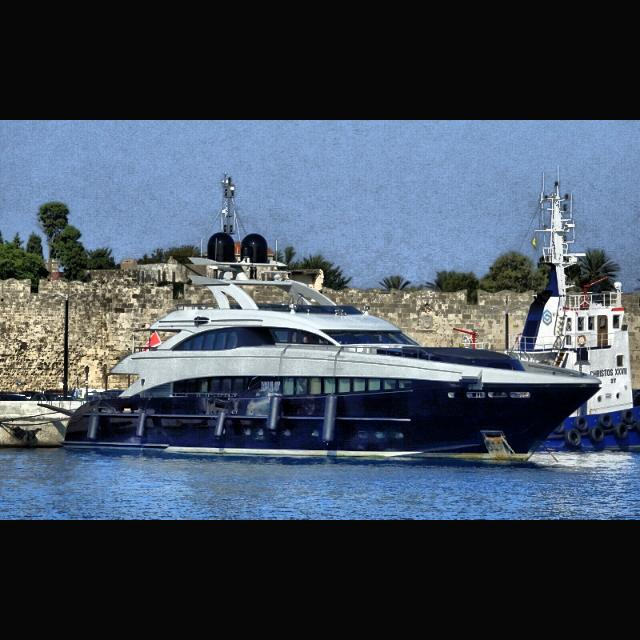yacht: (56, 230, 602, 464)
